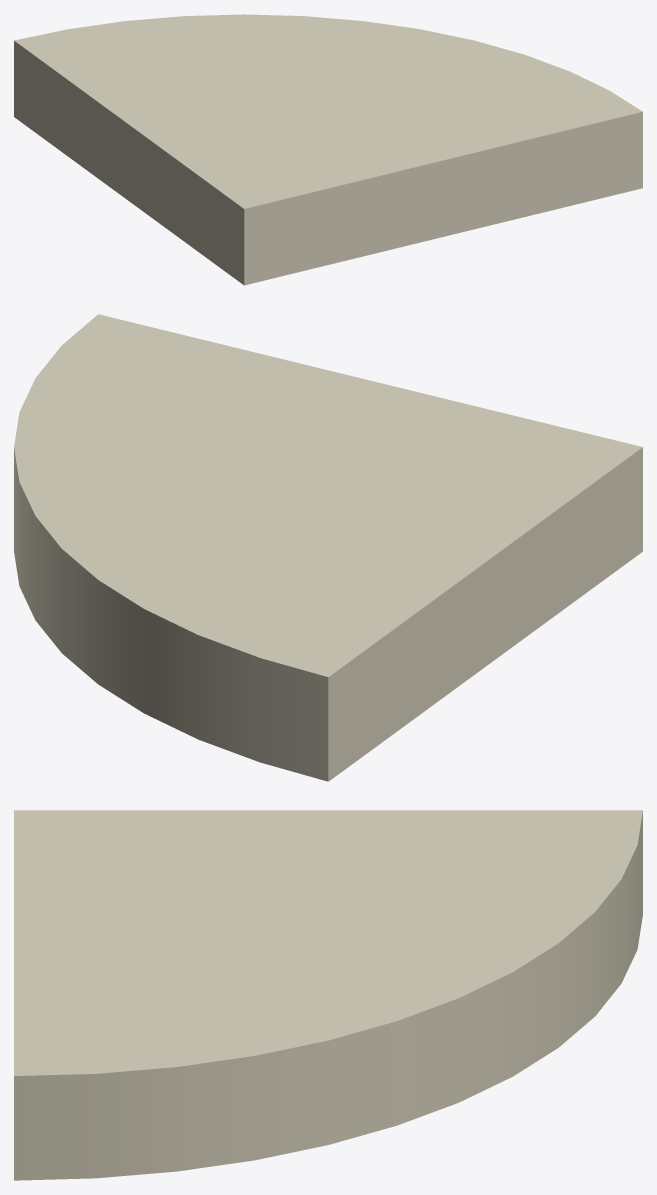
File: tile090.dae
The picture shows the model from 3 angles, top to bottom: view 1: azimuth 30°, elevation 25°; view 2: azimuth 150°, elevation 25°; view 3: azimuth 270°, elevation 25°; orthographic projection. The views are drawn at different scales.
Visible parts, largest first — view 1: tile090; view 2: tile090; view 3: tile090.
Boxes of the visible parts, bbox=[...] form: tile090: bbox=[14, 14, 642, 285]; tile090: bbox=[14, 314, 642, 781]; tile090: bbox=[14, 810, 642, 1180].
Bounding box in the file's own units: 1 × 0.1833 × 1.
